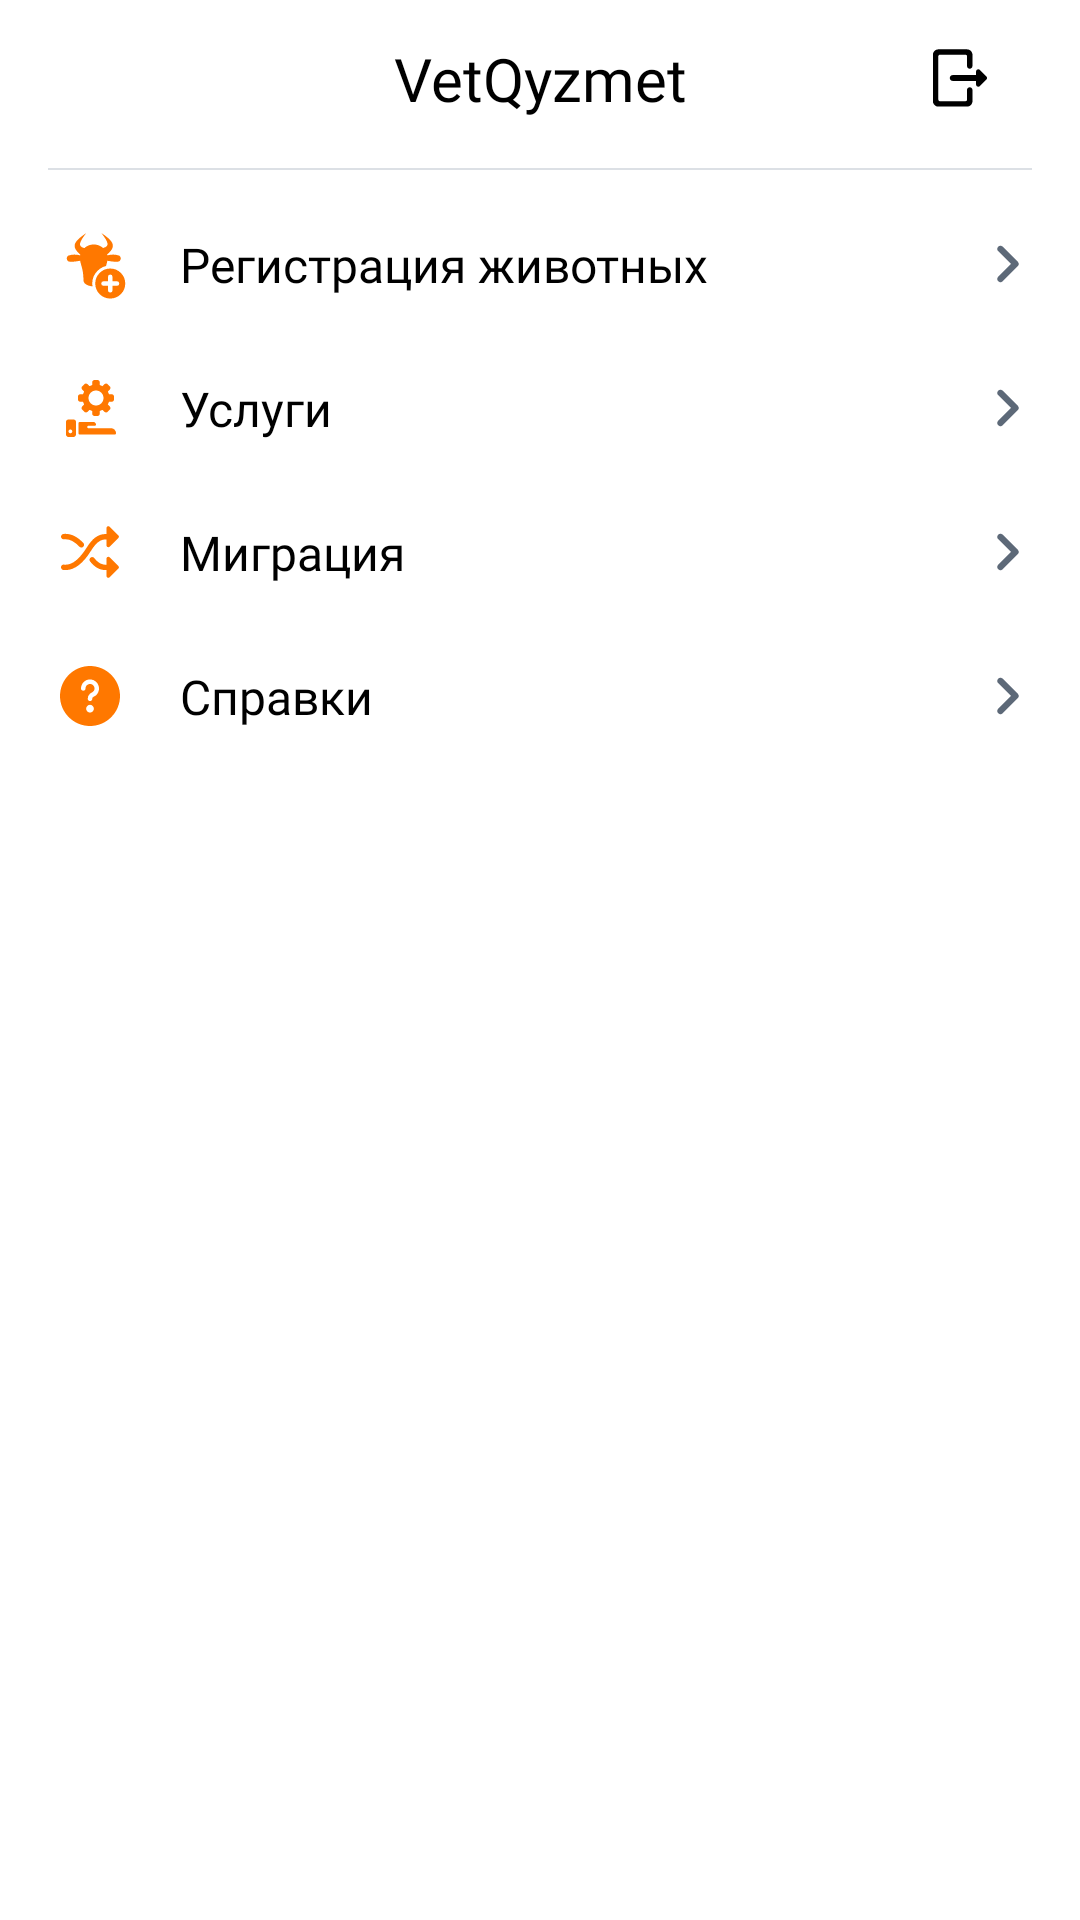

Locate icon controls on the screen. Image size 1080px×1920px, boxes as (x1, y1, x2, y2).
migration: (61, 526, 119, 578)
register: (66, 233, 126, 299)
right arrow: (997, 245, 1019, 283), (997, 389, 1019, 427), (997, 533, 1019, 571), (997, 677, 1019, 715)
services: (66, 380, 116, 437)
spravki: (60, 666, 120, 726)
